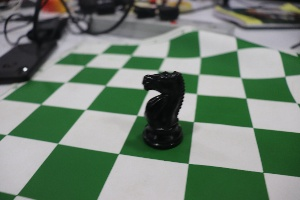black_horse: (132, 54, 197, 154)
